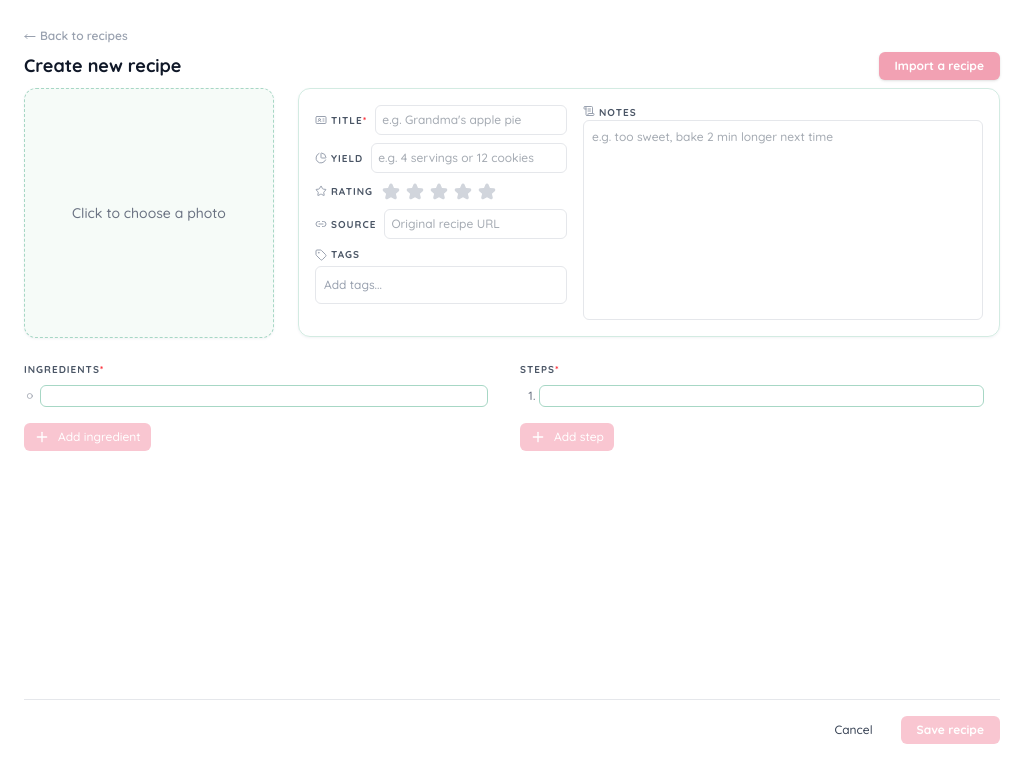
Test: NewRecipe cancel guard › keeps save disabled until title, ingredient, and step all have content
Expected: the button "Save recipe" is disabled, [901,716,1000,744]
Type "Apple pie" into the field labelled "Title*" at (471, 120), box [375,105,567,135]
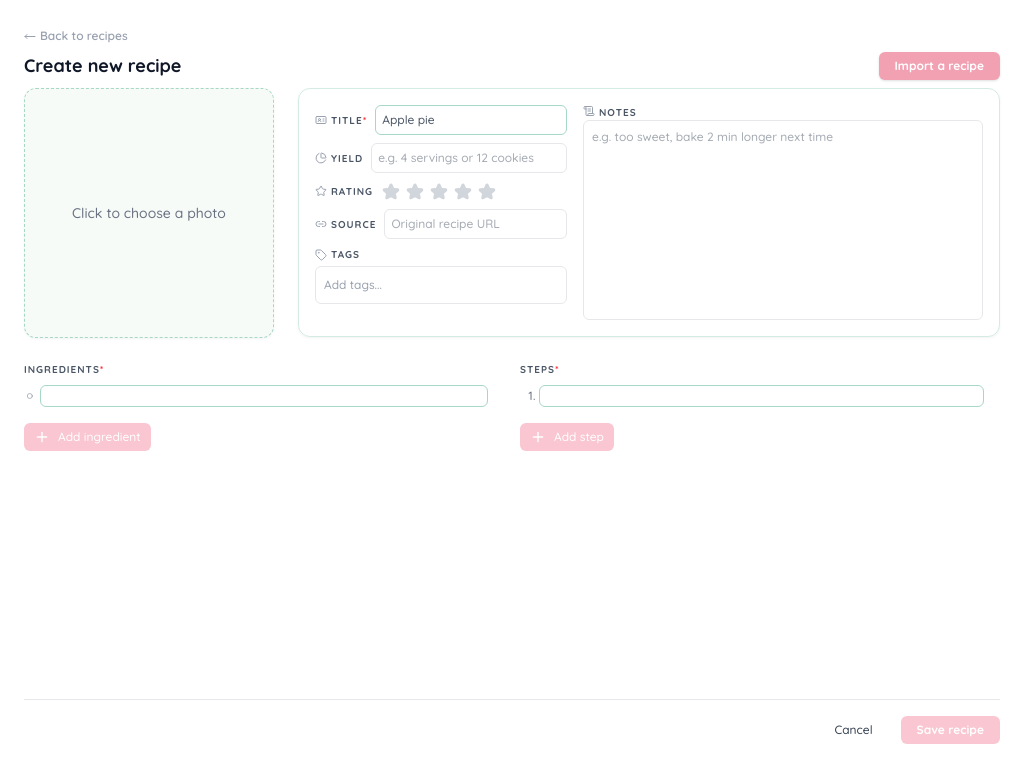
Expected: the button "Save recipe" is disabled, [901,716,1000,744]
Type "2 apples" into the field named "ingredients.0.ingredient" below "Ingredients" at (264, 396), box [40,385,488,407]
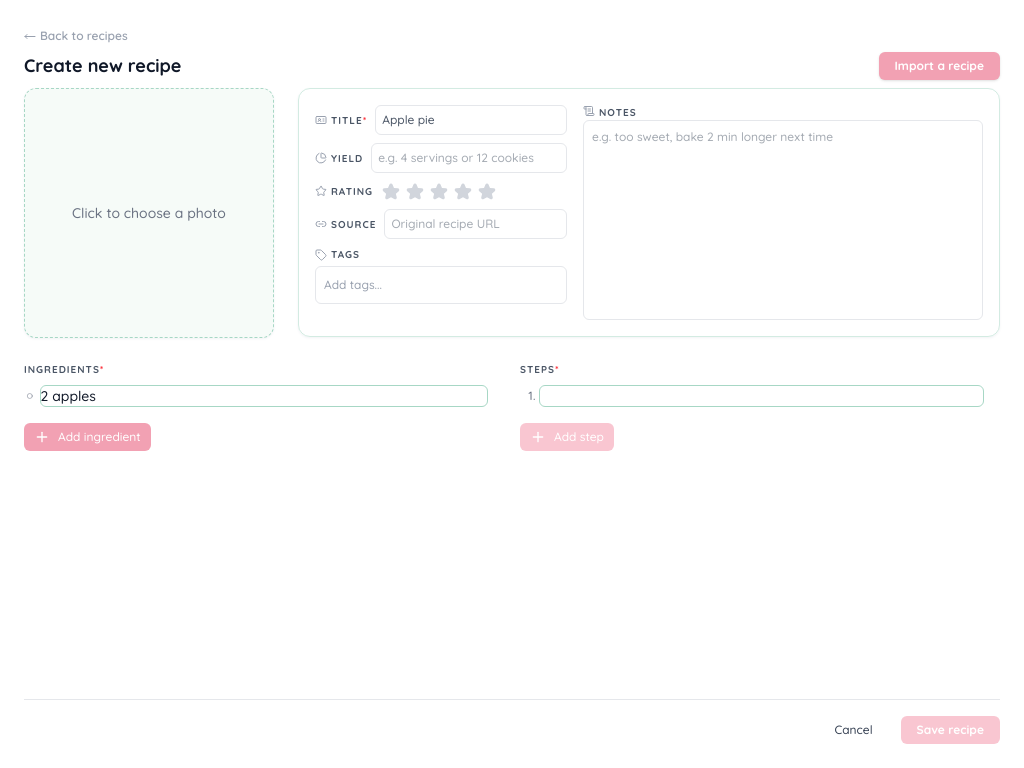
Expected: the button "Save recipe" is disabled, [901,716,1000,744]
Type "Mix everything together" into the field named "steps.0.step" below "Steps" at (762, 396), box [539,385,984,407]
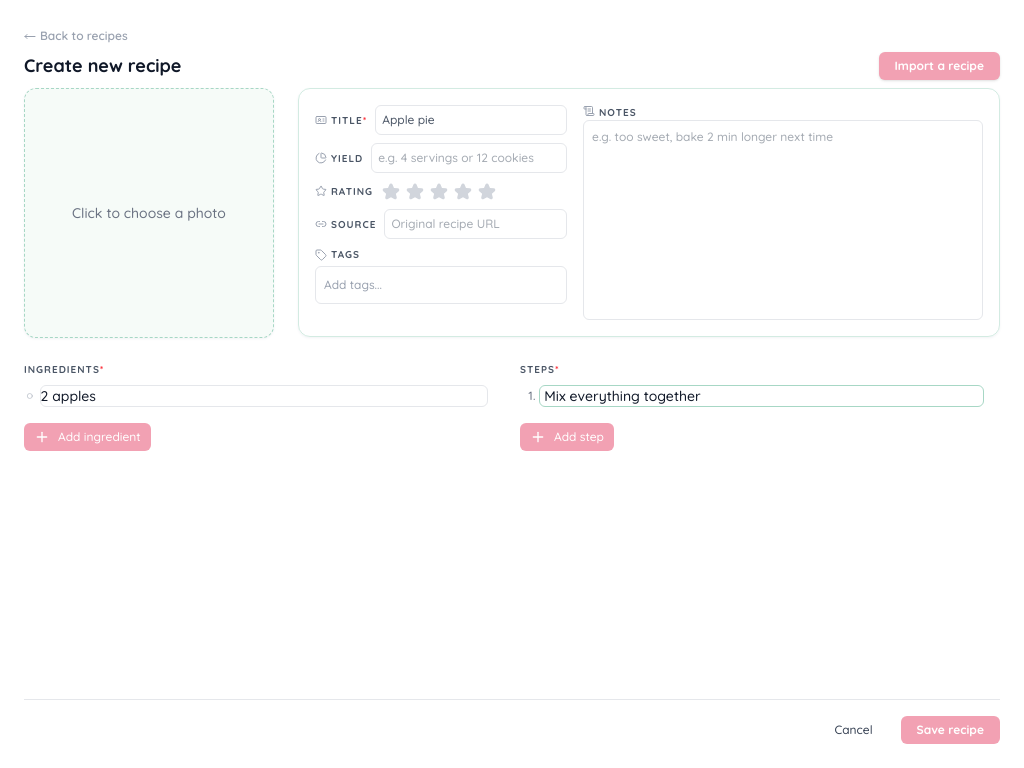
Now the button "Save recipe" is enabled, box [901,716,1000,744]
